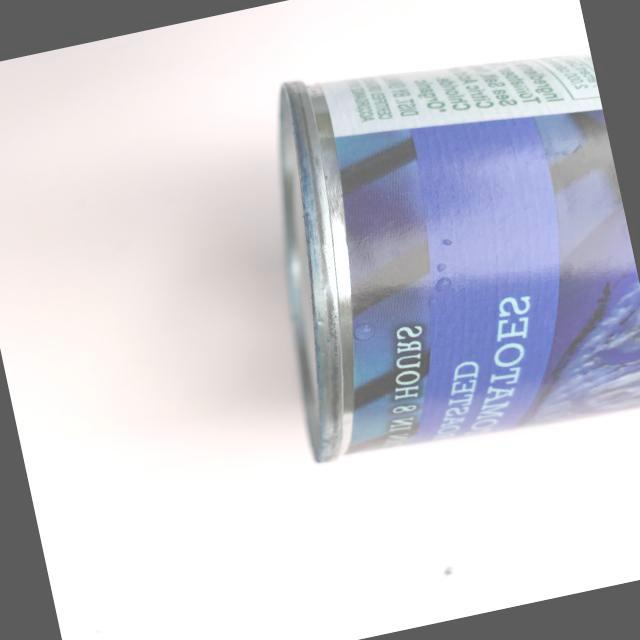metal: (222, 3, 640, 491)
